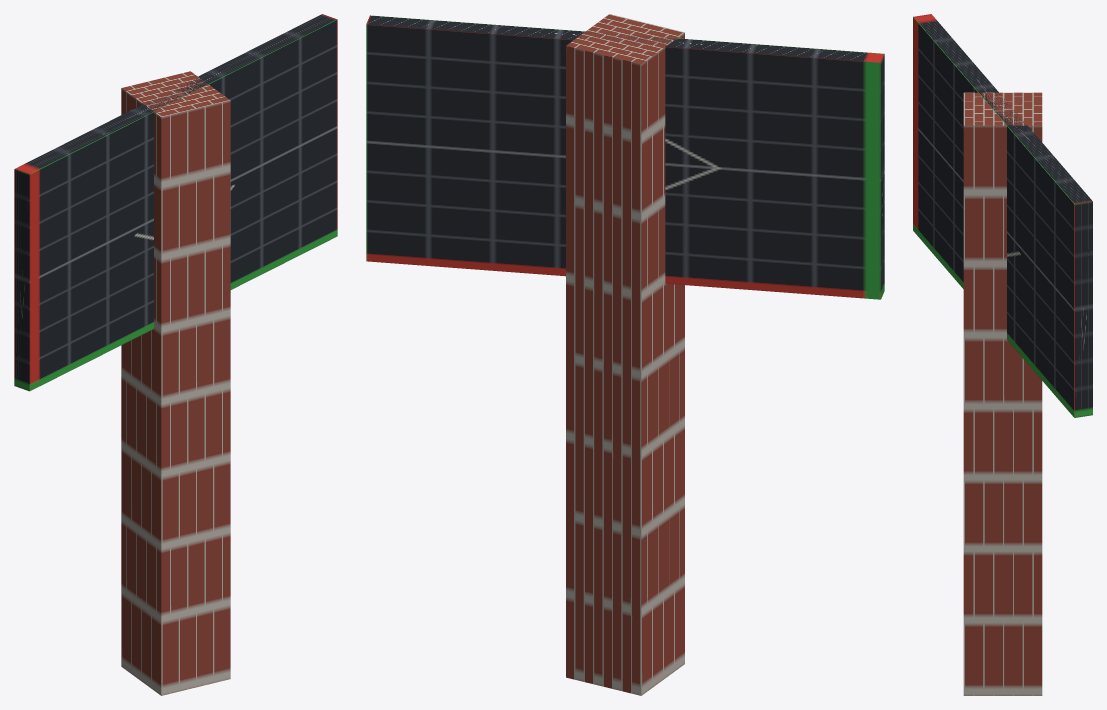
Rendered from signpost.gltf.
The picture shows the model from 3 angles, left to right: view 1: azimuth 30°, elevation 25°; view 2: azimuth 150°, elevation 25°; view 3: azimuth 270°, elevation 25°; orthographic projection. The views are drawn at different scales.
Visible parts, largest first — view 1: Post, Sign; view 2: Sign, Post; view 3: Post, Sign.
Part boxes in pixels (box(x1,y1,x2,y2)): Post: box(121, 71, 230, 695); Sign: box(14, 14, 337, 391); Sign: box(366, 15, 884, 299); Post: box(566, 14, 684, 695); Post: box(963, 92, 1042, 695); Sign: box(913, 14, 1092, 417).
Size of the model in its own units: 22.89 by 32 by 9.15.
2 materials, 2 textured.
